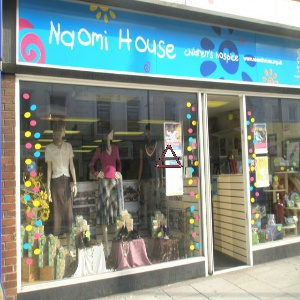triangle: (153, 143, 185, 172)
